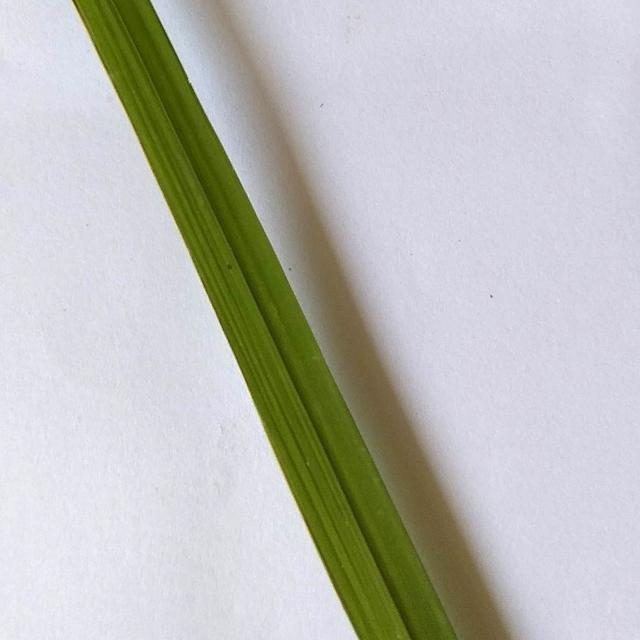Rice_Healthy: (74, 0, 457, 640)
